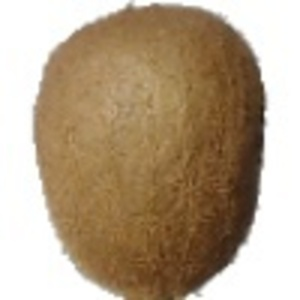kiwi: (30, 2, 268, 300)
